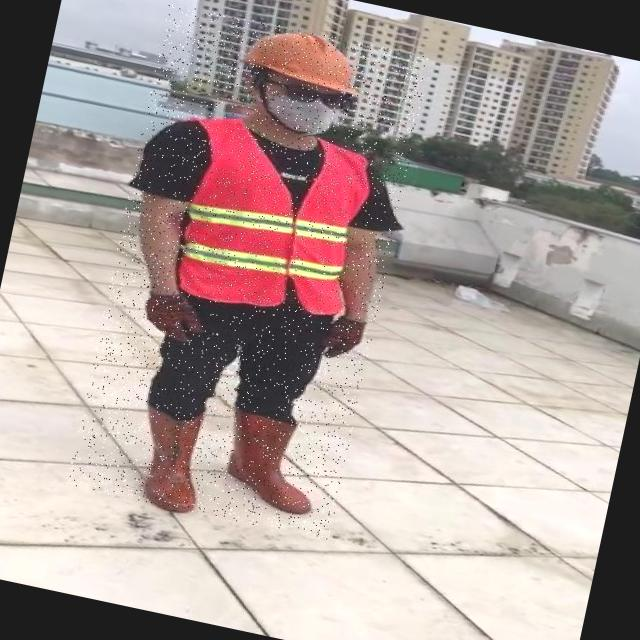boots: (214, 409, 328, 516), (125, 405, 214, 516)
gloves: (140, 289, 206, 344), (310, 313, 368, 367)
helmet: (236, 21, 375, 98)
vest: (168, 114, 376, 327)
